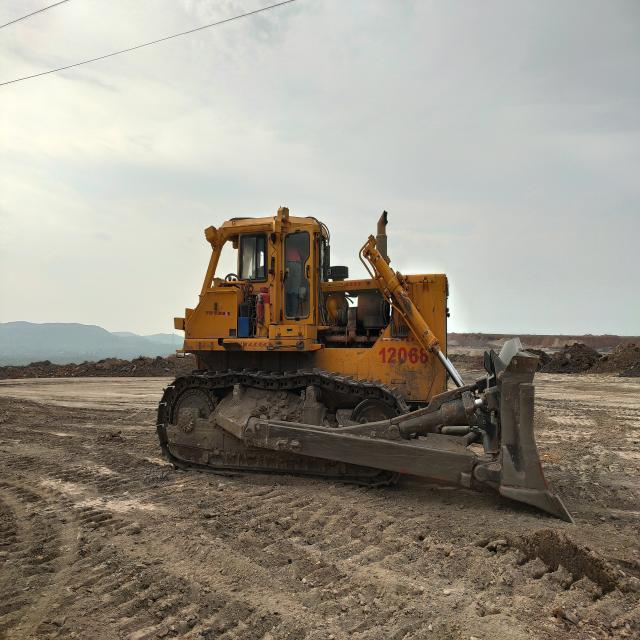buldozerpayloadergrader: (156, 210, 572, 523)
